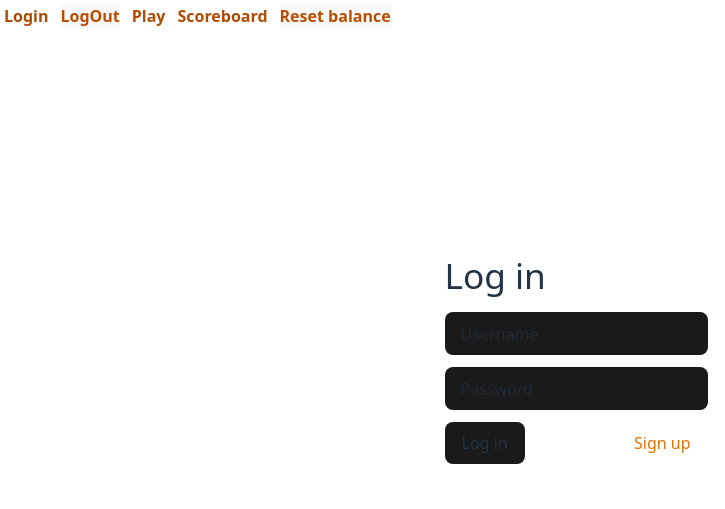
Test: Player can sign up, then reveals bet-board › data-cy="toggle-btn" exist and toggles to login
Click the button with test id "toggle-btn": (663, 443) [617, 422, 708, 464]
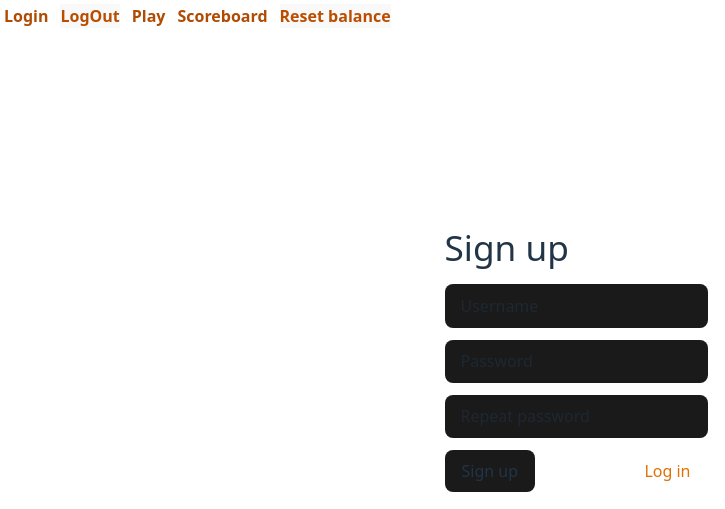
Expected: the button with test id "toggle-btn" reads "Log in", [627, 450, 707, 492]
